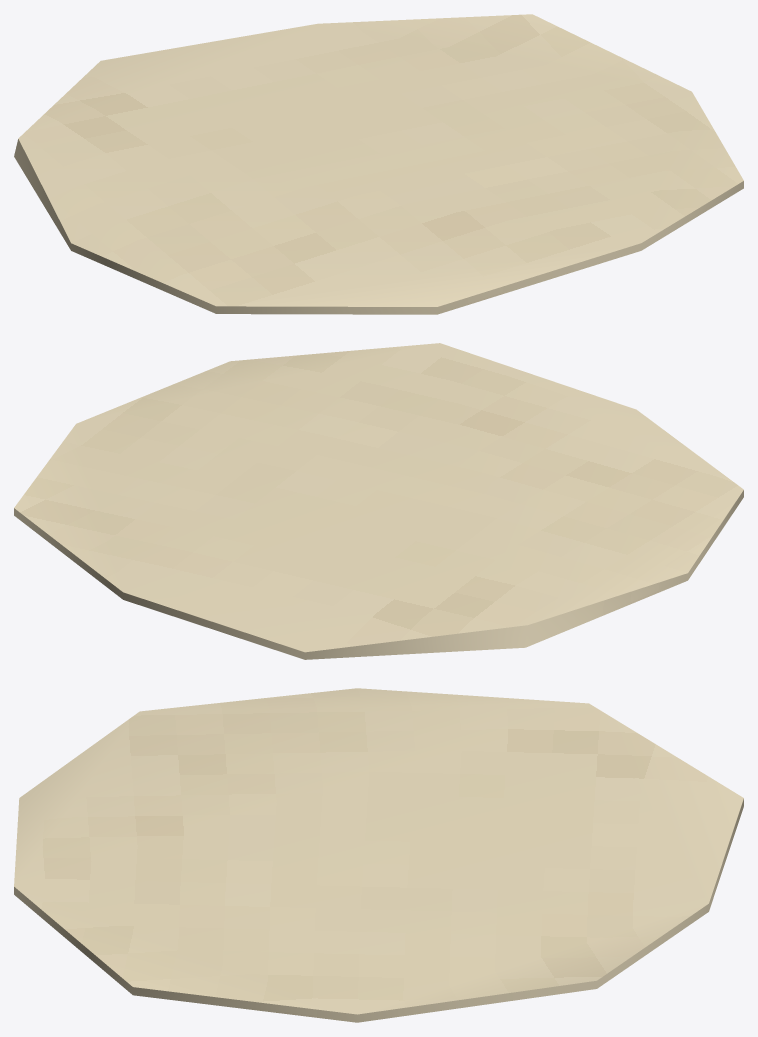
Rendered from WontonWrapper.fbx.
3 views of the same model, one above another, from view 1: azimuth 30°, elevation 25°; view 2: azimuth 150°, elevation 25°; view 3: azimuth 270°, elevation 25° (orthographic). The views are drawn at different scales.
Parts seen in each view (by area): view 1: WontonWrapper; view 2: WontonWrapper; view 3: WontonWrapper.
Boxes of the visible parts, <box> form: WontonWrapper: <box>14,14,743,314</box>; WontonWrapper: <box>14,343,743,659</box>; WontonWrapper: <box>14,688,743,1022</box>.
Bounding box in the file's own units: 20.31 × 0.7544 × 19.2.
